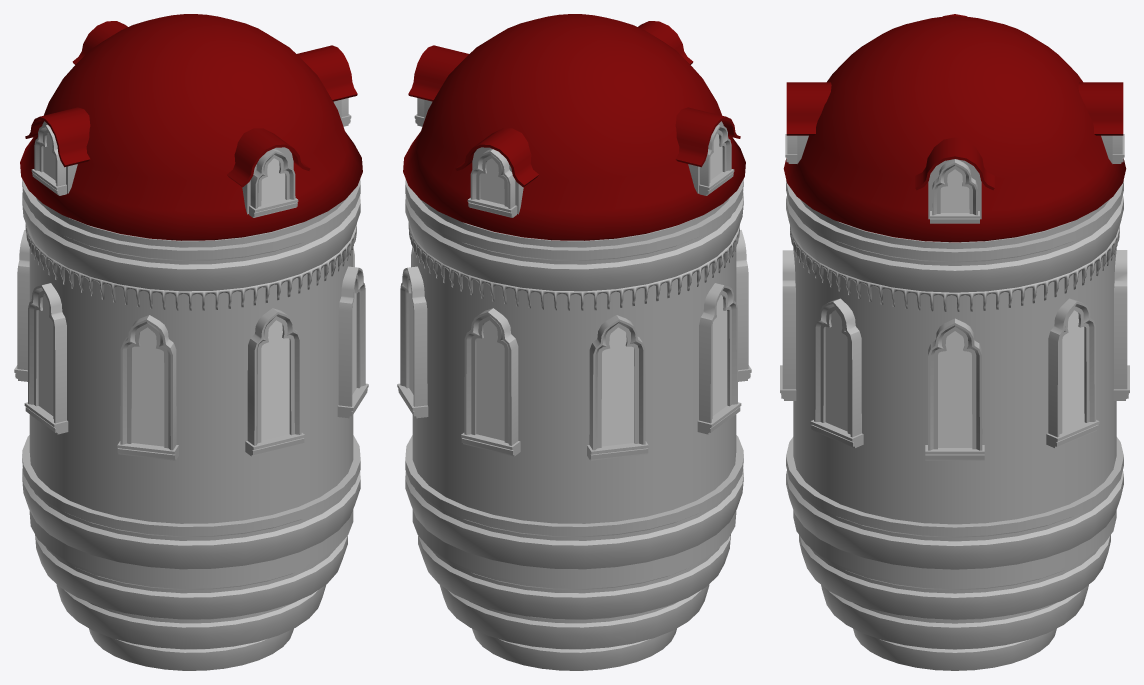
File: turret_005.glb
The picture shows the model from 3 angles, left to right: view 1: azimuth 30°, elevation 25°; view 2: azimuth 150°, elevation 25°; view 3: azimuth 270°, elevation 25°; orthographic projection.
Visible parts, largest first — view 1: turret_005; view 2: turret_005; view 3: turret_005.
Boxes of the visible parts, x1,y1,x2,y2 form: turret_005: (14, 14, 368, 670); turret_005: (397, 14, 751, 670); turret_005: (780, 14, 1129, 670).
Bounding box in the file's own units: 0.9396 × 1.77 × 0.9396.
